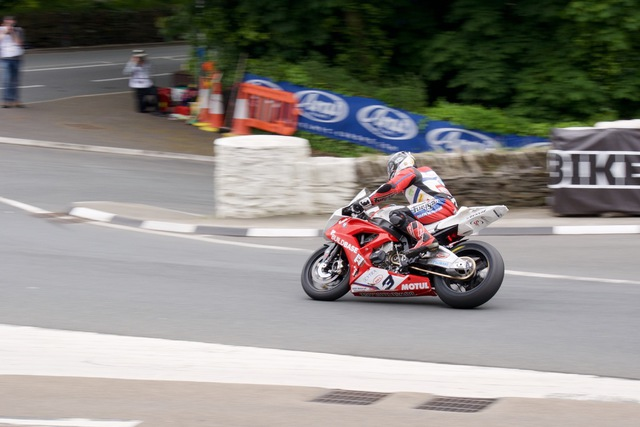helmet: (388, 148, 420, 174)
